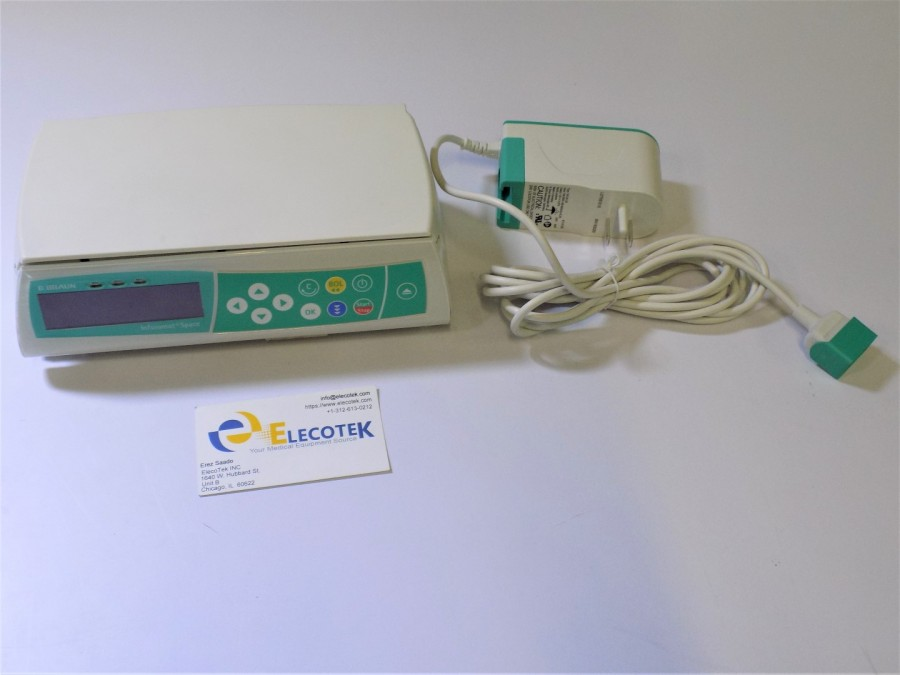BBraun Infusomat Space: (11, 104, 460, 366)
